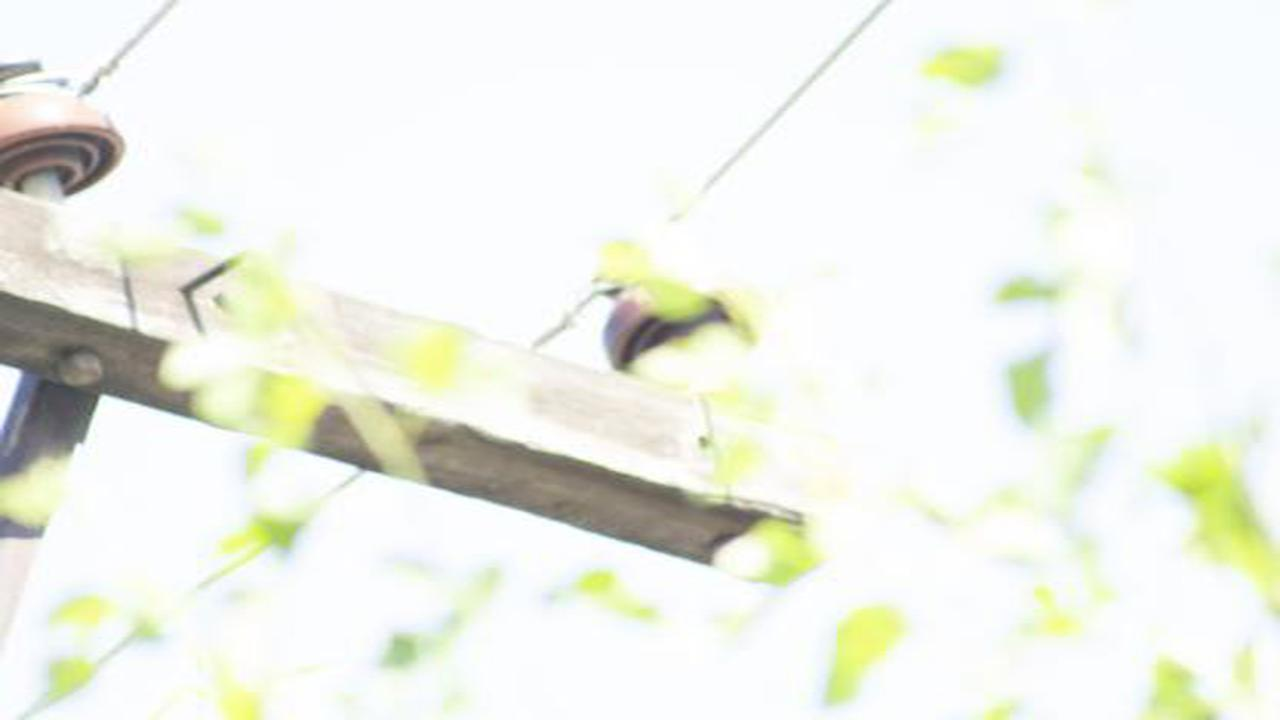insulator_pin: (7, 46, 130, 189), (579, 271, 733, 364)
